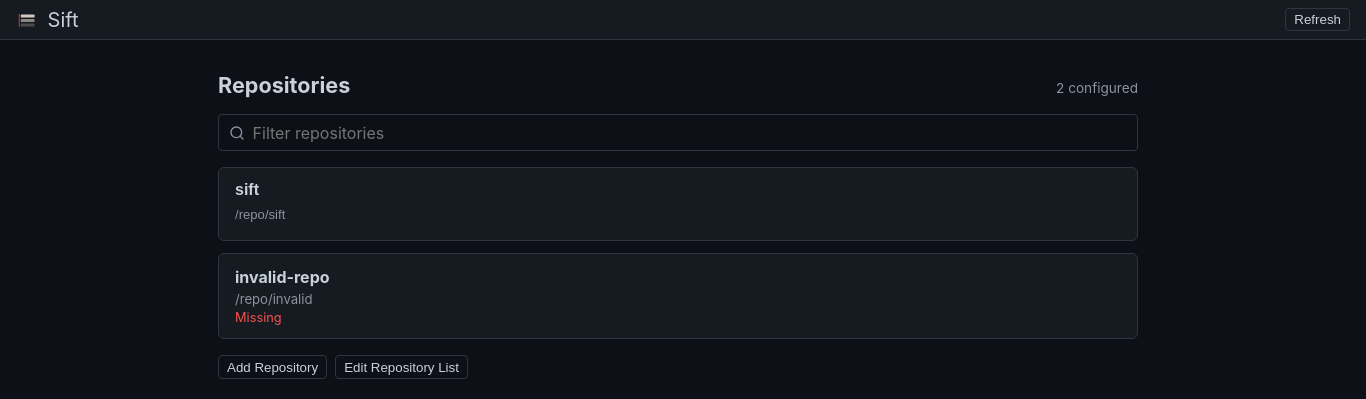
Test case: RepositorySelection › marks a repository as pending delete without committing immediately
Click the button "Edit Repository List". click: (402,367)
box: [335, 355, 468, 379]
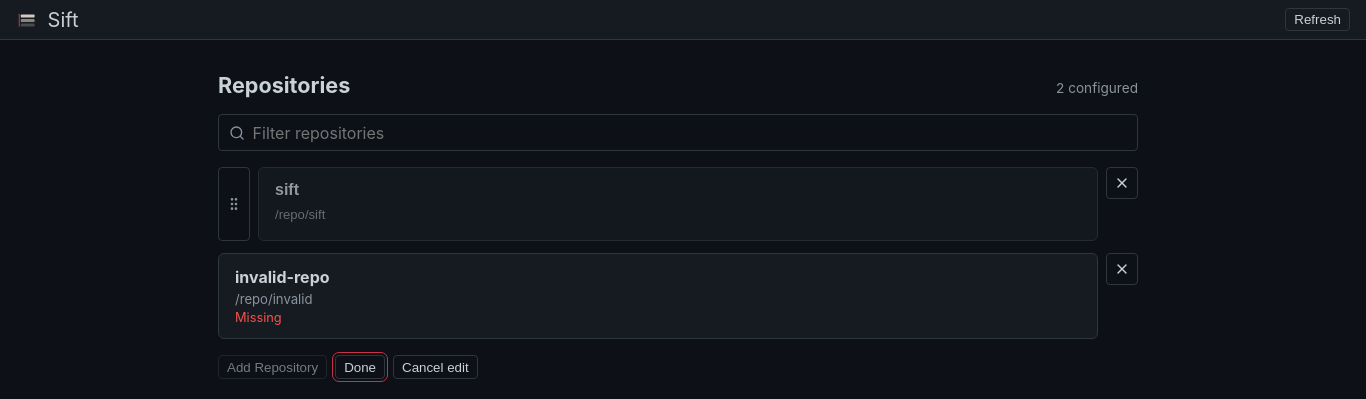
Click the button named "Remove invalid-repo". click: (1122,269)
box: [1106, 253, 1138, 285]
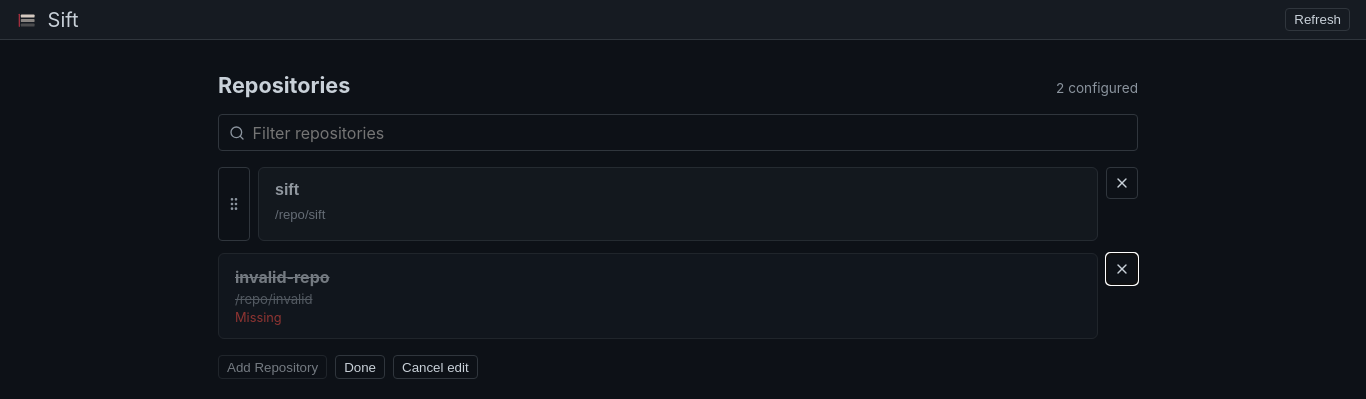
Check: the button named "Undo remove invalid-repo" is shown, box [1106, 253, 1138, 285]
